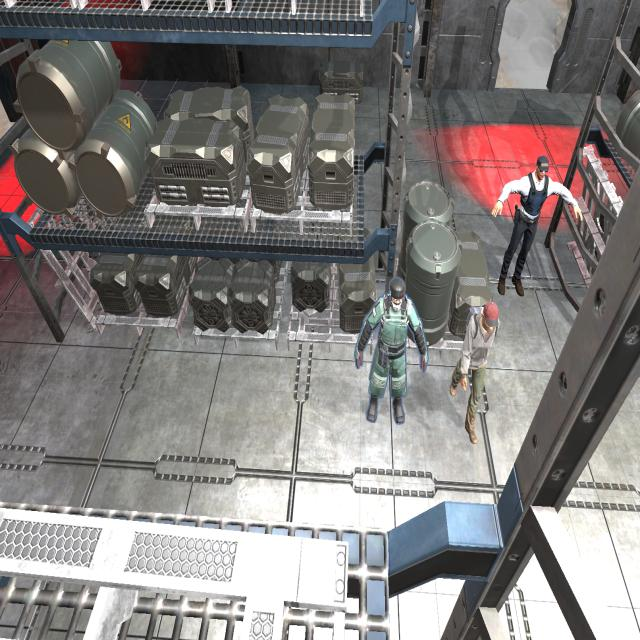thiefs: (448, 297, 503, 447)
